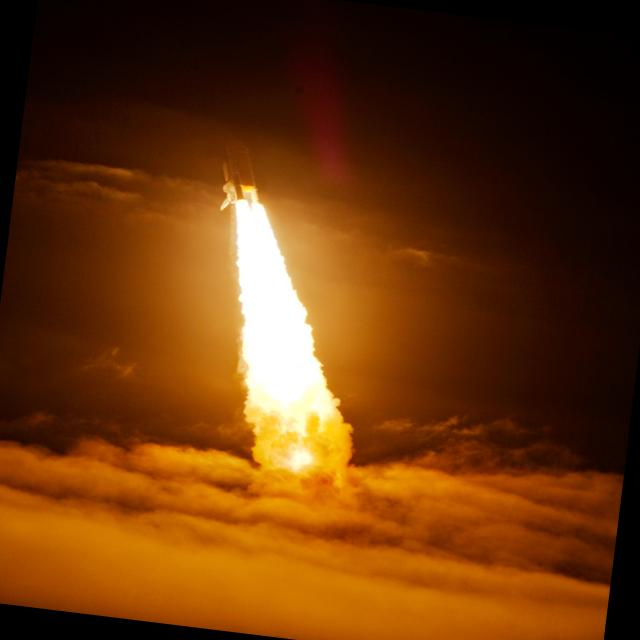rocket: (169, 140, 380, 488)
